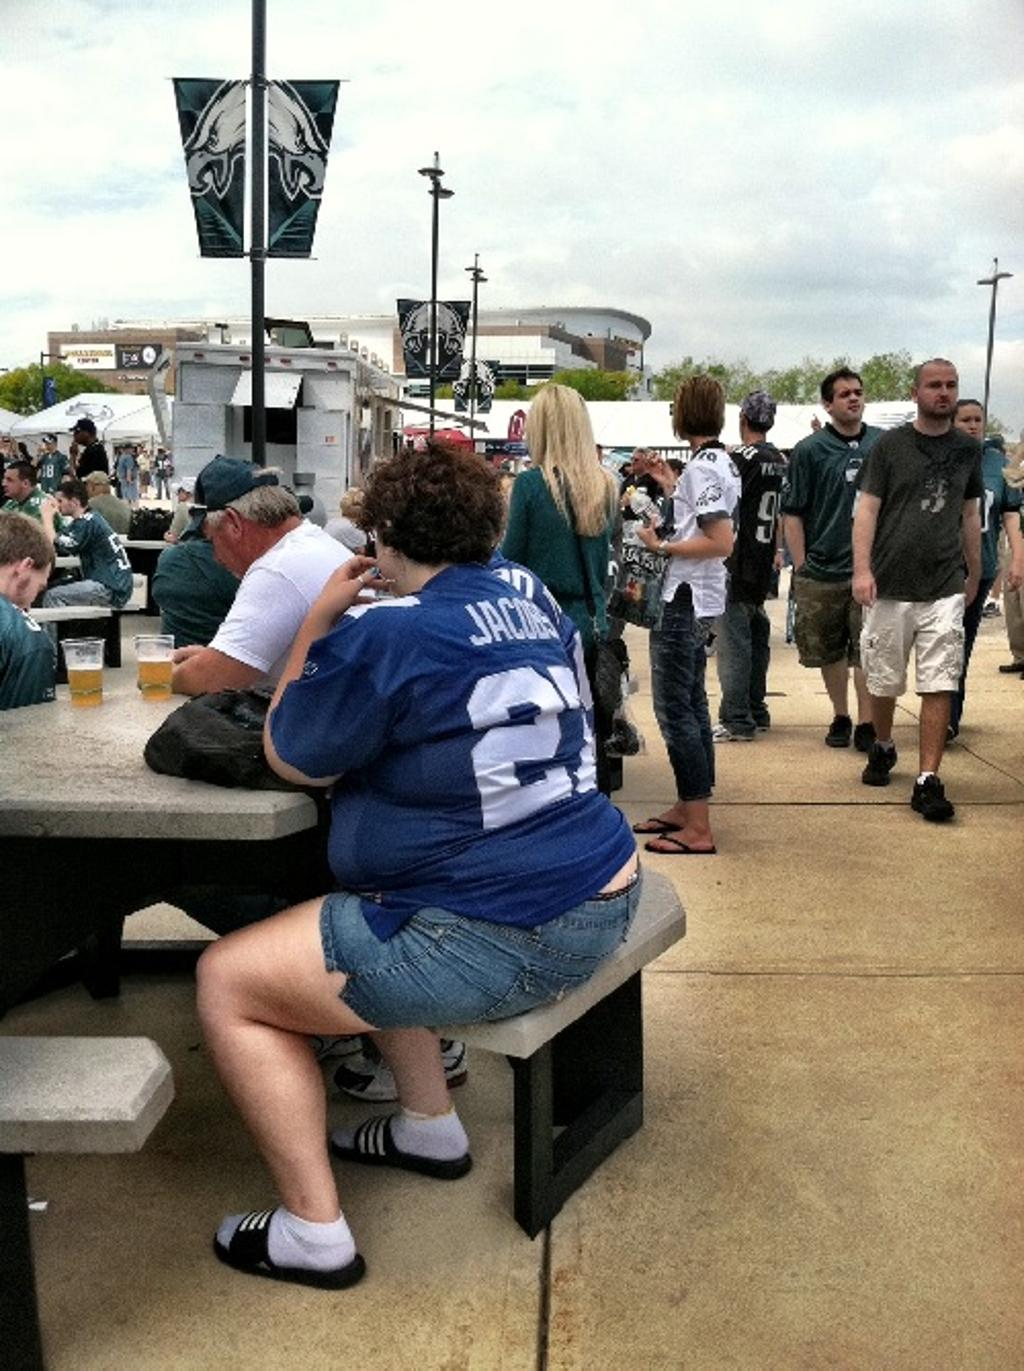face: (919, 374, 955, 413), (833, 385, 863, 422), (956, 411, 984, 442)
